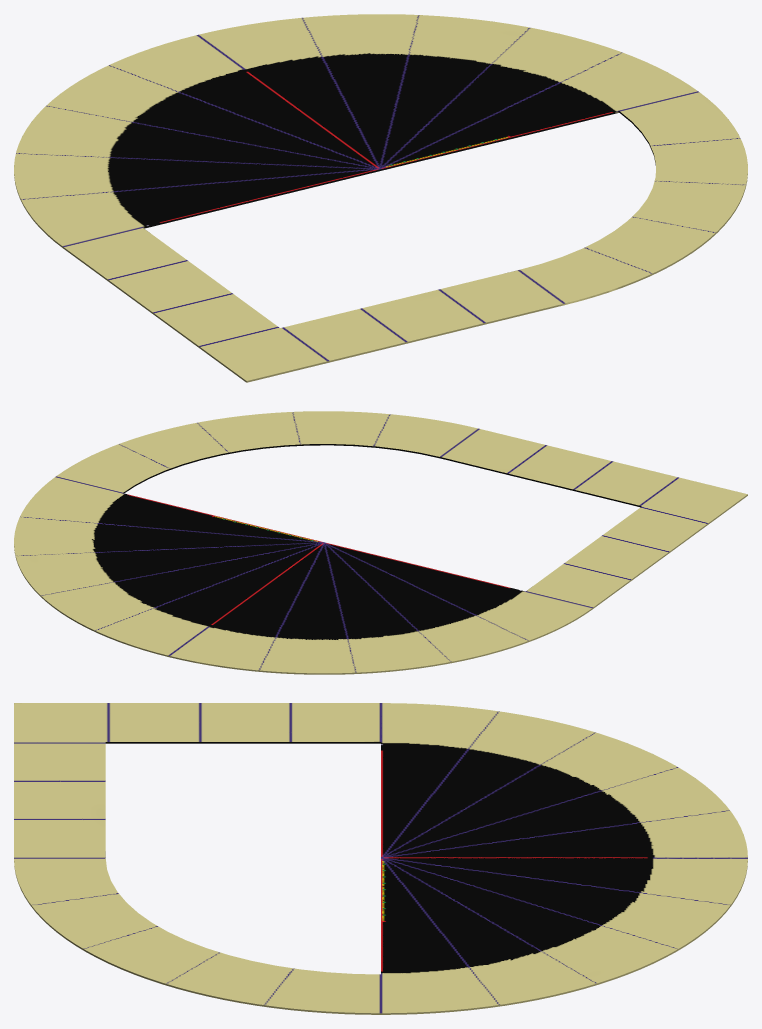
Rendered from LevelFloor.obj.
3 views of the same model, one above another, from view 1: azimuth 30°, elevation 25°; view 2: azimuth 150°, elevation 25°; view 3: azimuth 270°, elevation 25° (orthographic). The views are drawn at different scales.
Parts seen in each view (by area): view 1: Cylinder; view 2: Cylinder; view 3: Cylinder.
Boxes of the visible parts, x1,y1,x2,y2 form: Cylinder: (14, 14, 747, 382); Cylinder: (14, 411, 747, 674); Cylinder: (14, 703, 747, 1014).
Size of the model in its own units: 8 by 0.02 by 8.
2 materials, 2 textured.
